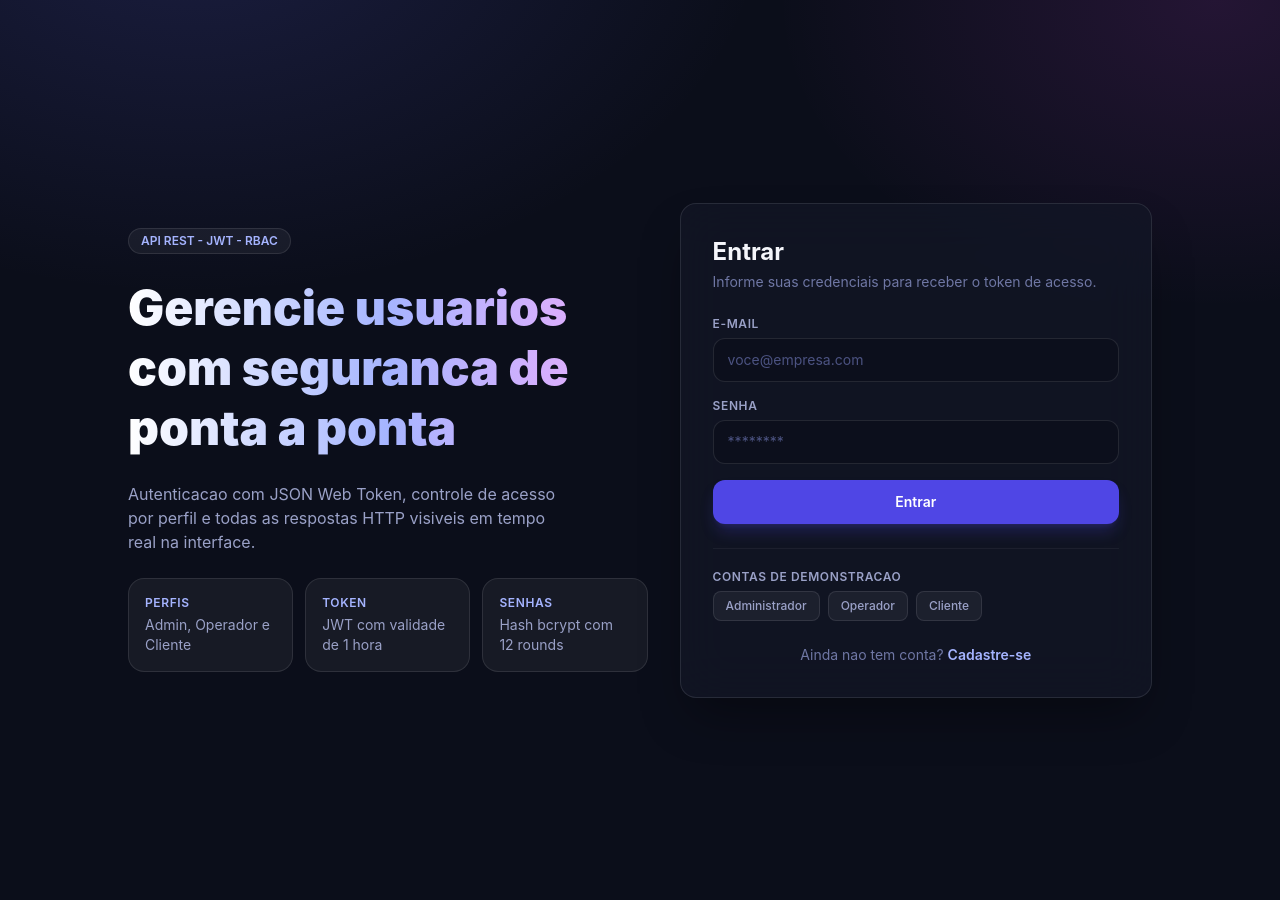
<Login /> › mostra a mensagem retornada pela API em credenciais invalidas
In the field labelled "E-mail": coordinates (916, 360) x1=713 y1=338 x2=1119 y2=382, type "ana@organizacion.dev"
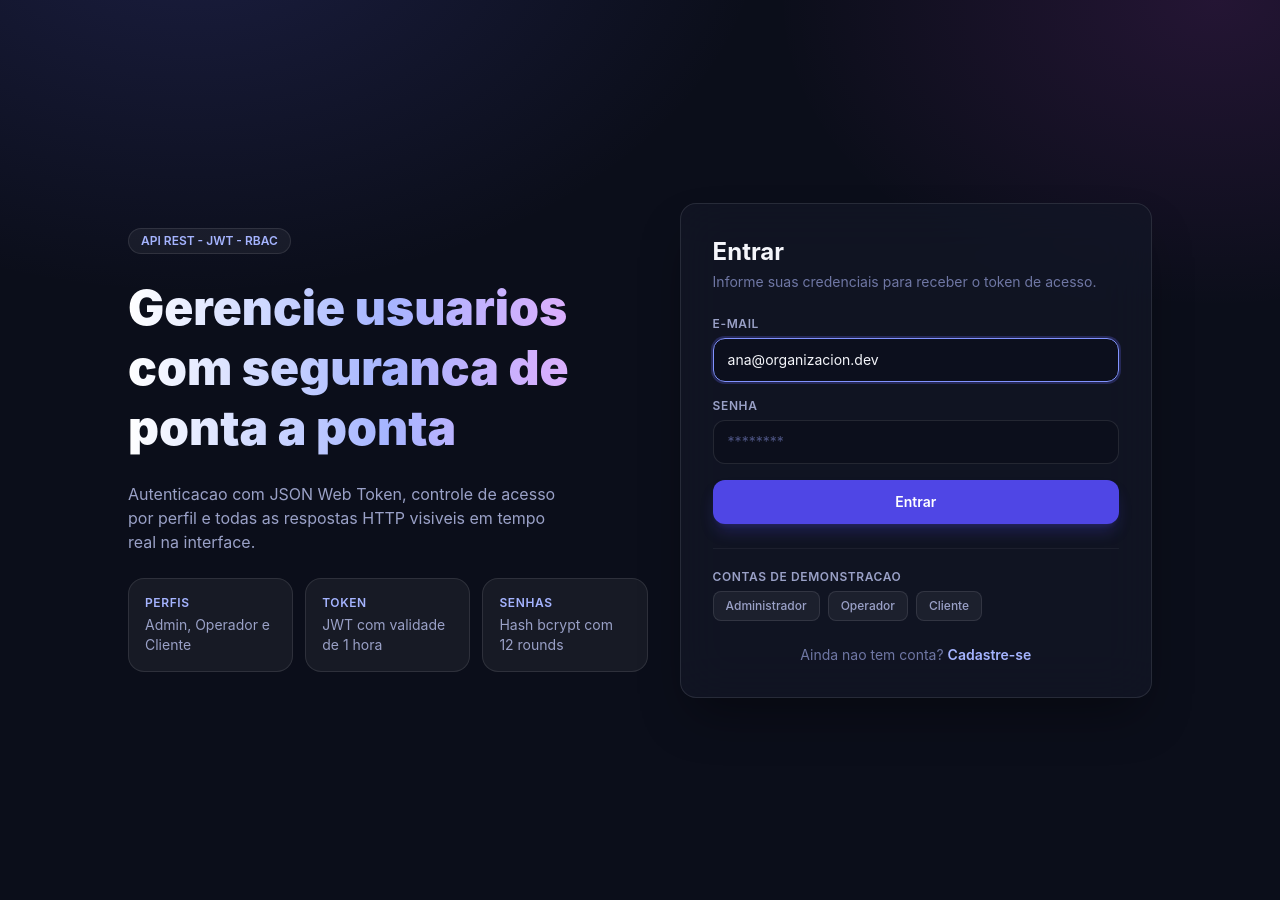
In the password field labelled "Senha": coordinates (916, 442) x1=713 y1=420 x2=1119 y2=464, type "errada"
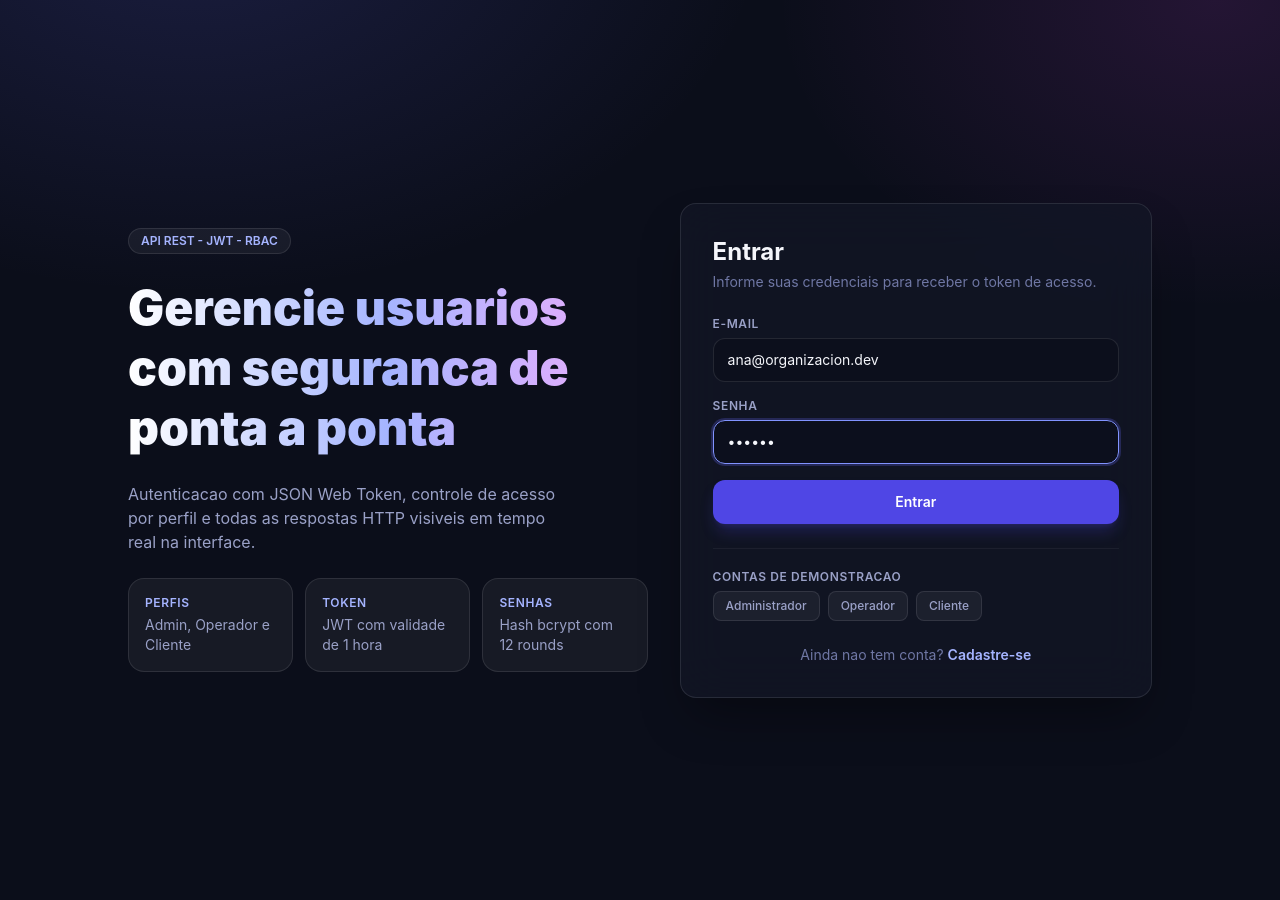
Click the button "Entrar": coordinates (916, 502) x1=713 y1=480 x2=1119 y2=524
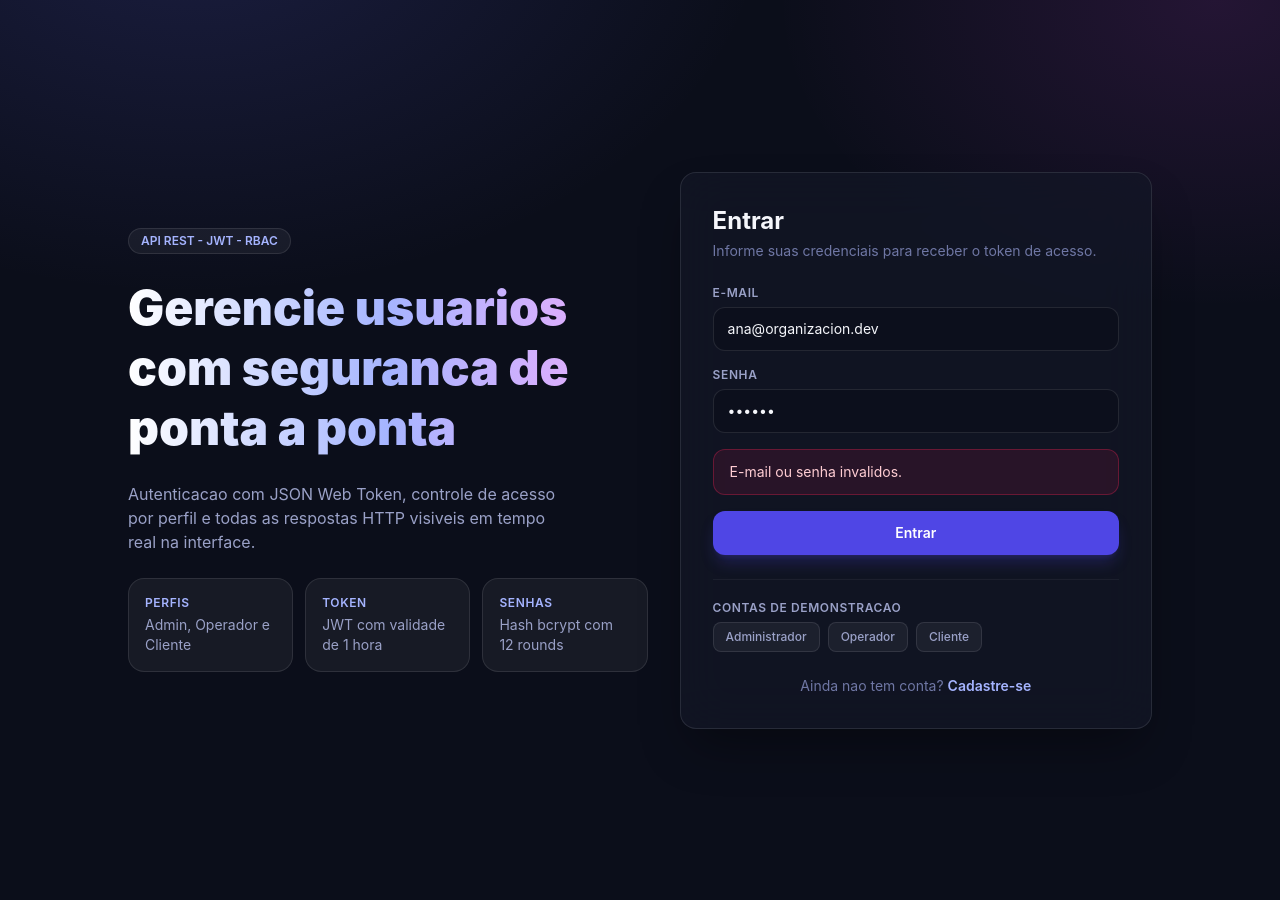
Check: the message reads "E-mail ou senha invalidos.", box x1=730 y1=462 x2=902 y2=480
